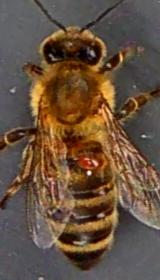varroa_mite: (76, 151, 105, 170)
